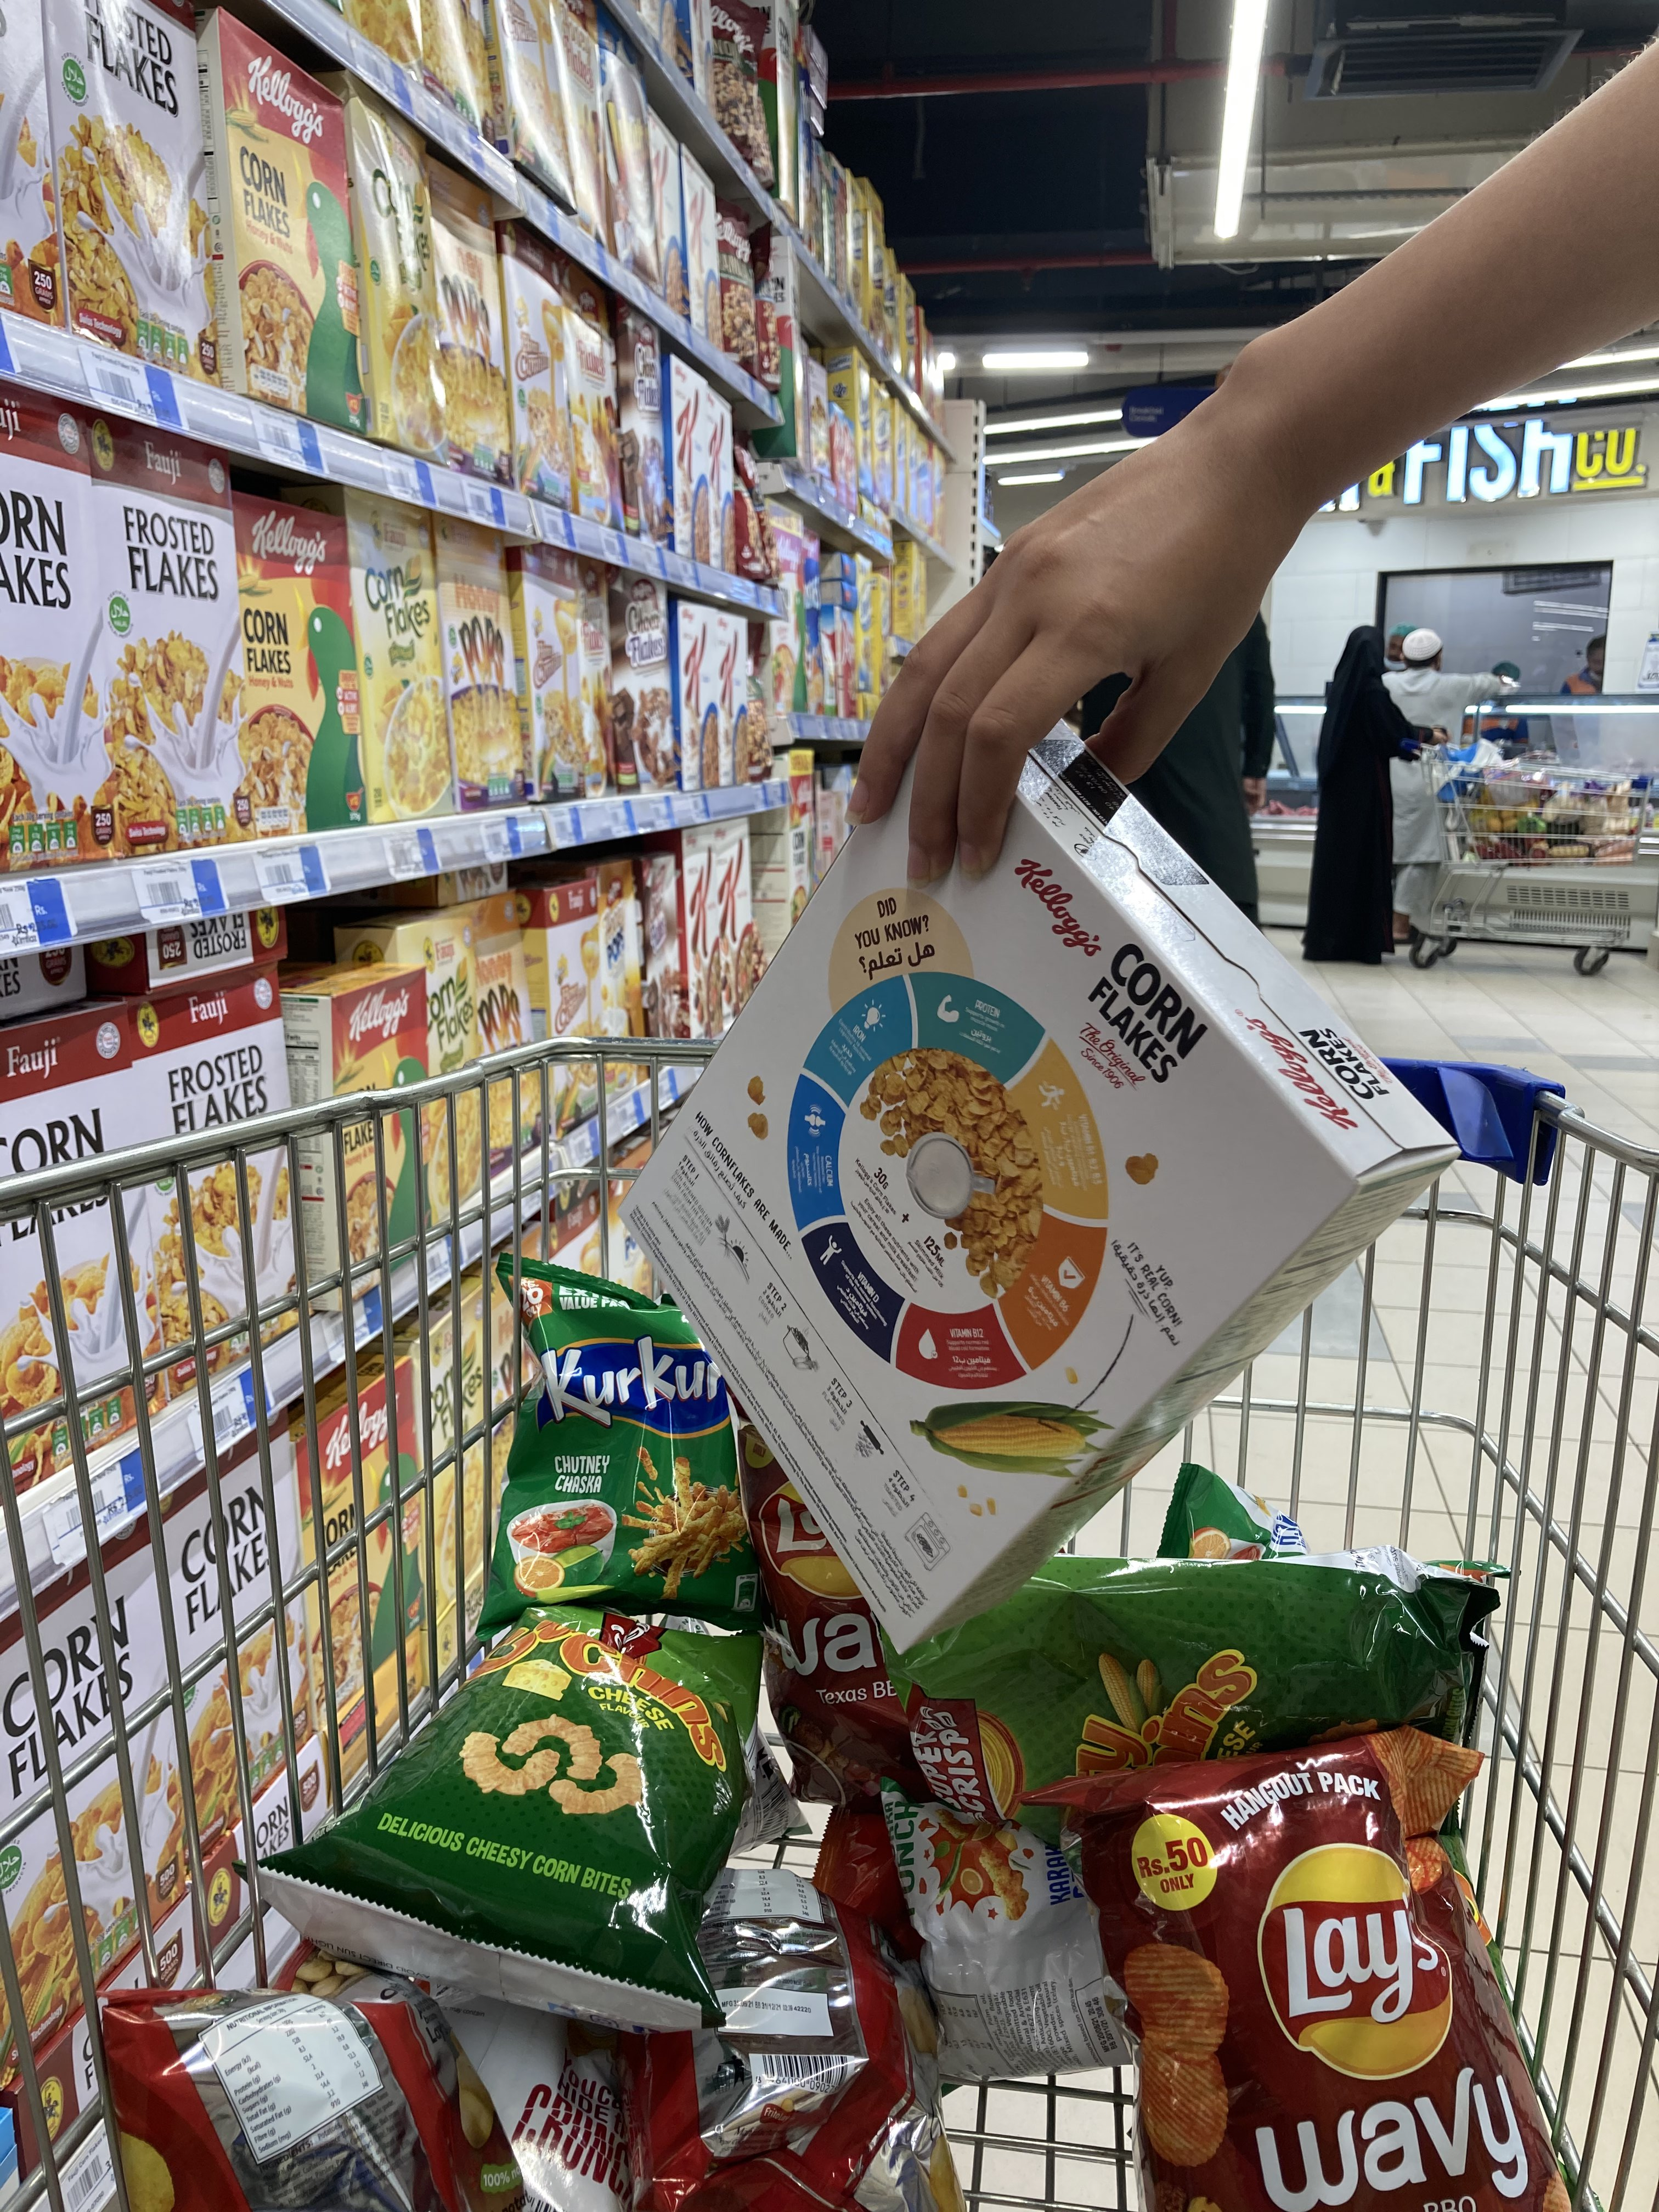Kellogg's Corn Flakes: (612, 759, 1466, 1655)
